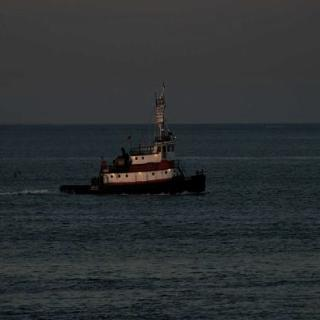Tug Boat: (59, 79, 204, 195)
